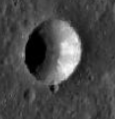crater: (8, 5, 97, 107)
